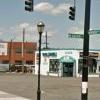Traffic light: (19, 0, 44, 18)
